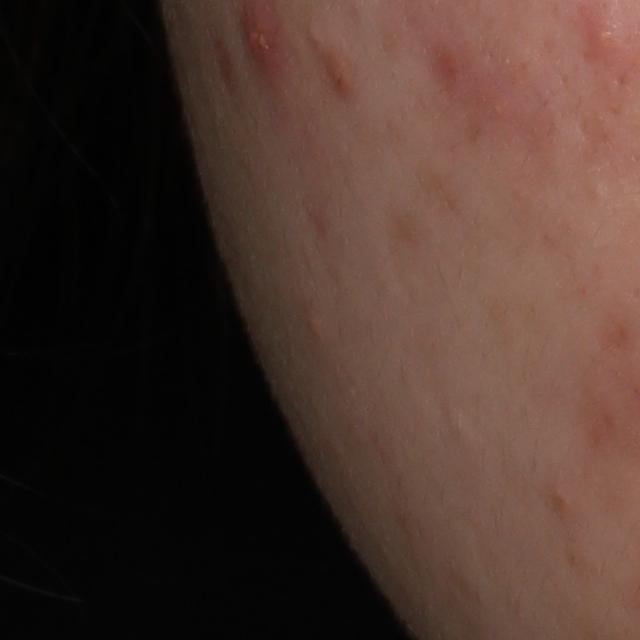papule: (325, 48, 355, 95), (549, 486, 572, 516)
